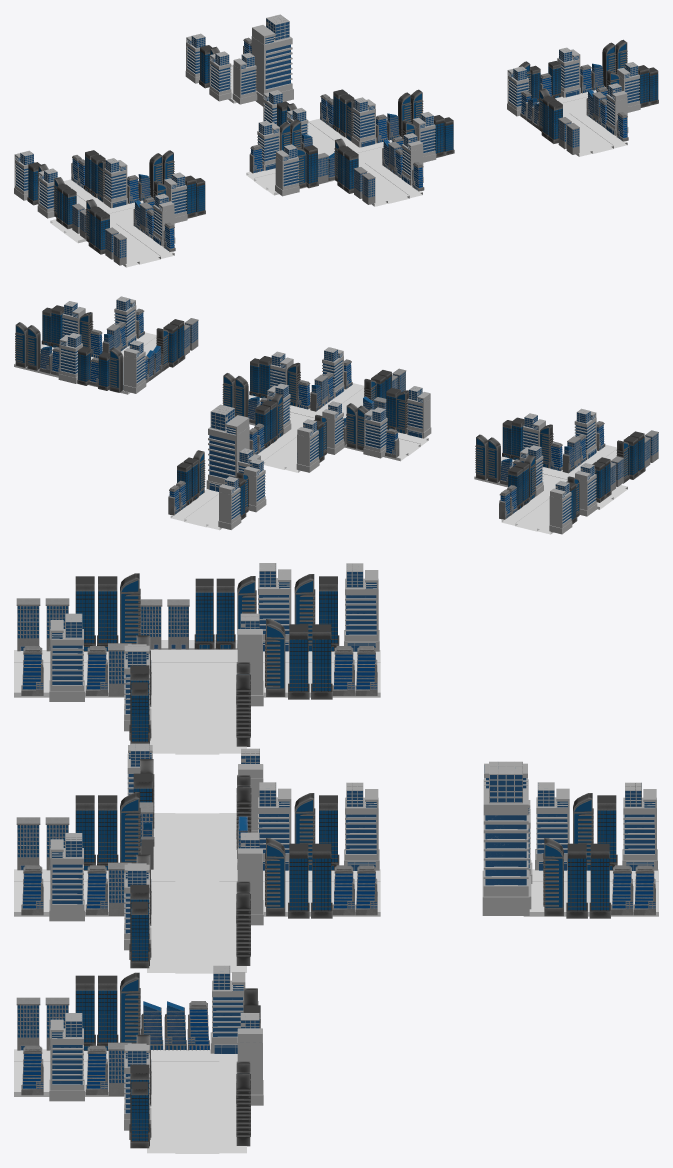
The model's file is concept.fbx.
The picture shows the model from 3 angles, top to bottom: view 1: azimuth 30°, elevation 25°; view 2: azimuth 150°, elevation 25°; view 3: azimuth 270°, elevation 25°; orthographic projection. The views are drawn at different scales.
Visible parts, largest first — view 1: Cube.009, Cube.002, Cube.004, Cube.003; view 2: Cube.009, Cube.002, Cube.004, Cube.003; view 3: Cube.009, Cube.002, Cube.004, Cube.003.
Boxes of the visible parts, box(x1,y1,x2,y2) form: Cube.009: box(246, 89, 454, 206); Cube.002: box(14, 150, 205, 267); Cube.004: box(507, 39, 658, 156); Cube.003: box(185, 14, 293, 106); Cube.009: box(222, 347, 431, 472); Cube.002: box(474, 408, 658, 534); Cube.004: box(14, 296, 198, 394); Cube.003: box(168, 404, 266, 530); Cube.009: box(14, 743, 380, 973); Cube.002: box(14, 563, 380, 754); Cube.004: box(14, 965, 263, 1153); Cube.003: box(482, 761, 658, 918).
Bounding box in the file's own units: 39988 × 5195 × 21442.
